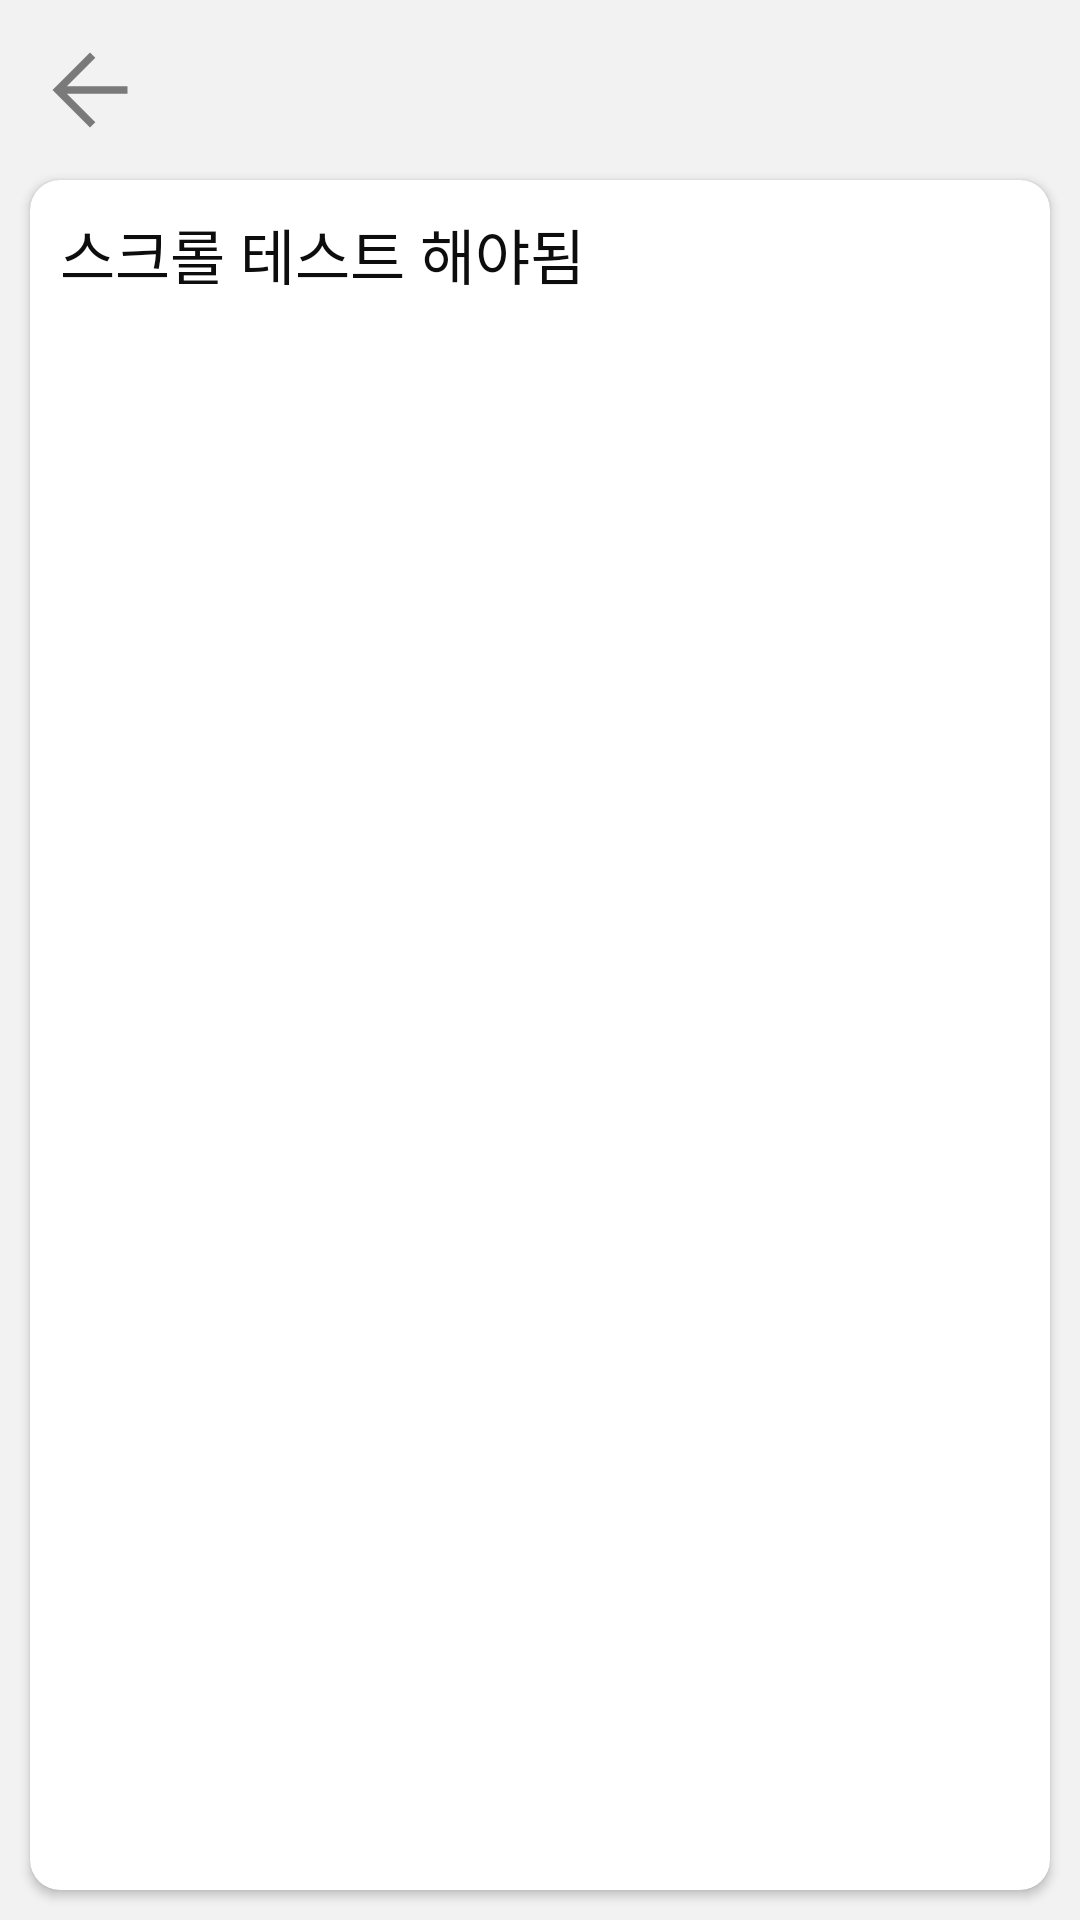

Icon click points for this 1080px x 1920px phone screenshot, format point (x, y):
back: point (90, 90)
